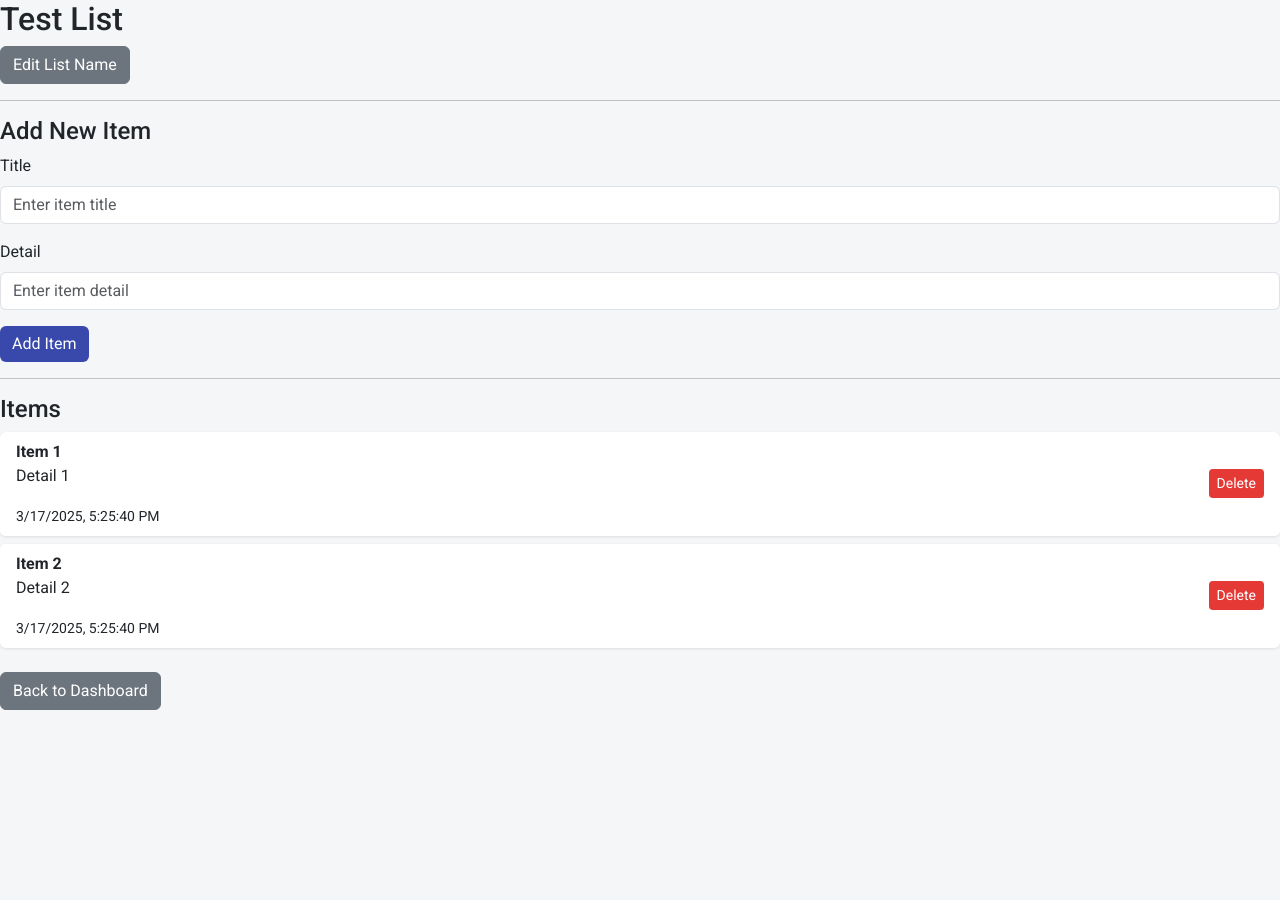
Scenario: TodoListDetail Component › edits list name
Expected: the heading "Test List" is shown, x1=0 y1=0 x2=123 y2=38
Note: click "Edit List Name" button to open modal
Click the button "Edit List Name" at [65, 65], box x1=0 y1=46 x2=130 y2=84
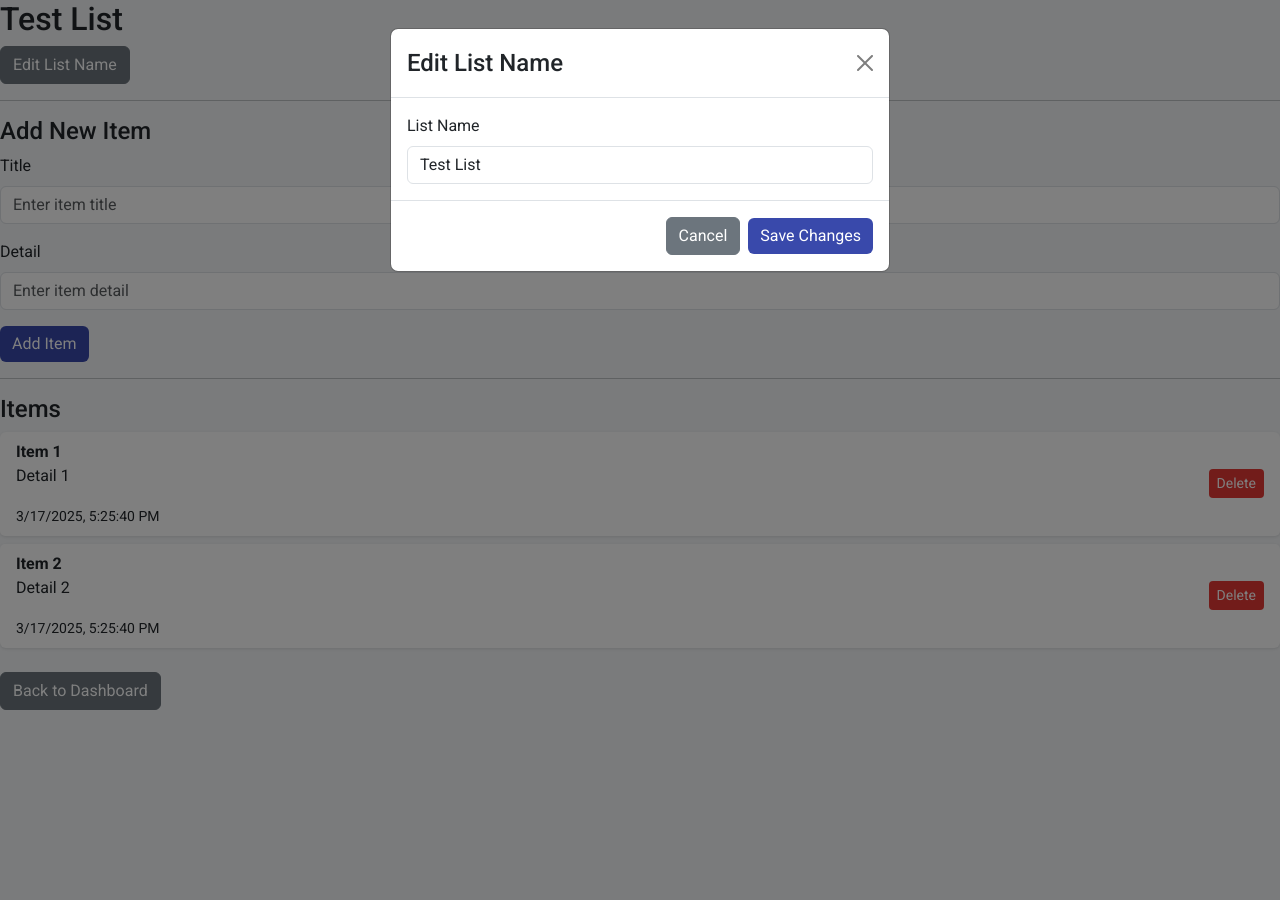
Note: Change the list name
Replace the text in the field showing "Test List" with "Updated List Name" at [640, 165], box x1=407 y1=146 x2=873 y2=184
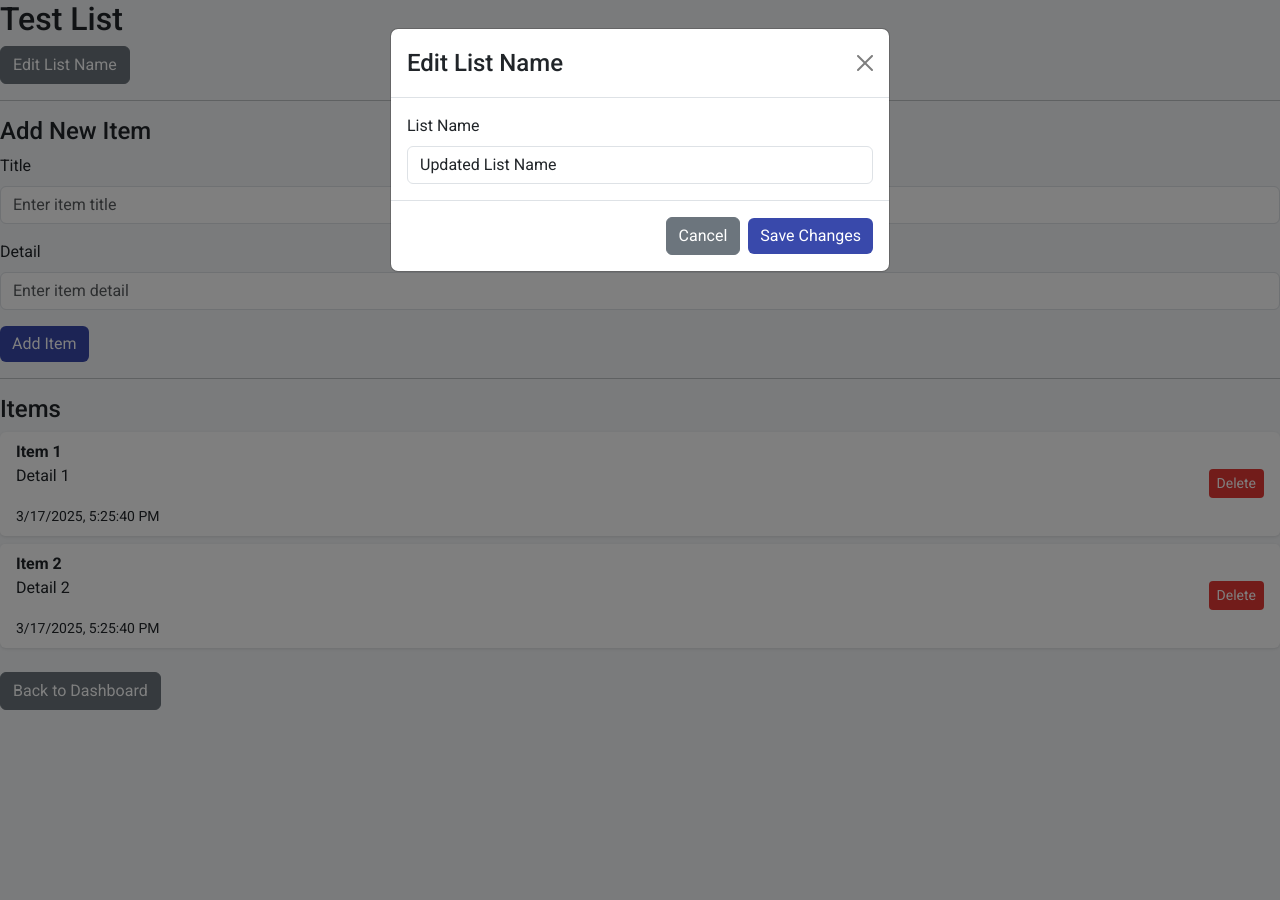
Note: click "Save Changes"
Click the button "Save Changes" at [811, 236], box x1=748 y1=218 x2=873 y2=254
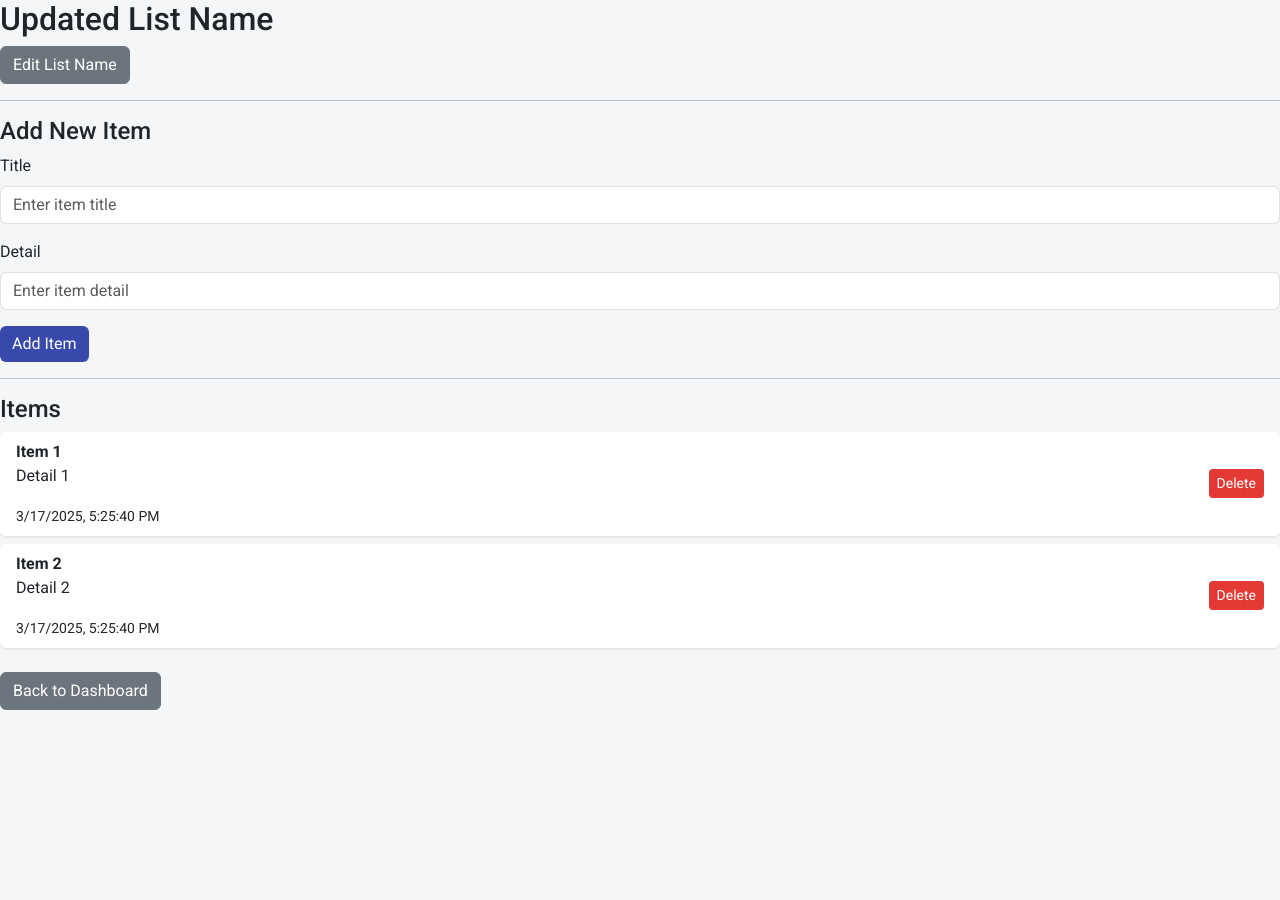
Now the heading "Updated List Name" is shown, box x1=0 y1=0 x2=274 y2=38
